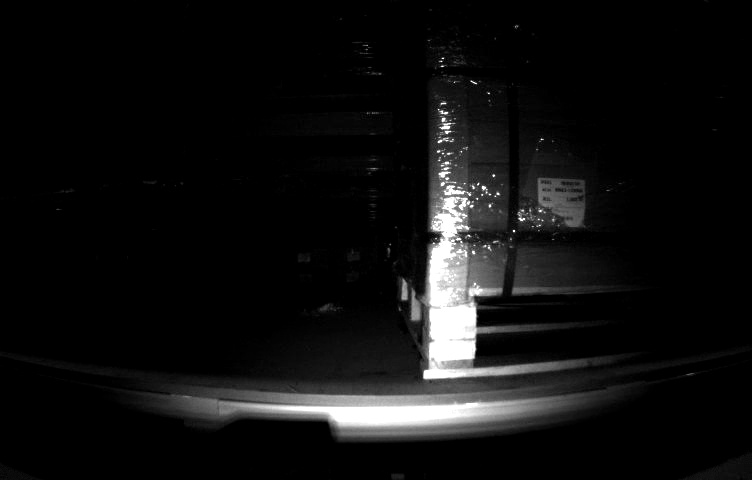True Barcode: (535, 176, 585, 229)
